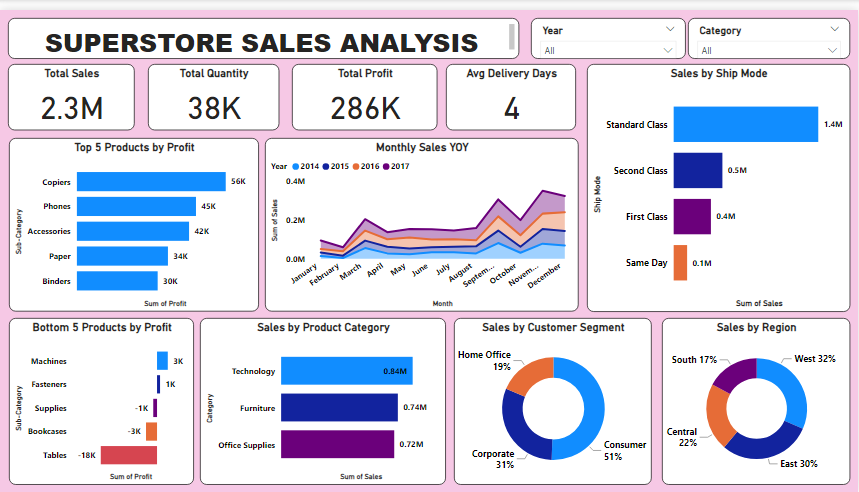

Layout of this report page (visuals, bound fields, positions):
{"tool":"powerbi","page":{"name":"DASHBOARD","canvas":[1280,720],"ordinal":0},"visuals":[{"type":"card","title":"Total Sales","fields":{"Values":["Sales.Total Sales"]},"box":[11.3,80.8,188.5,99.2],"z":0},{"type":"card","title":"Total Quantity","fields":{"Values":["Sales.Total Quantity"]},"box":[221.1,80.8,195.6,99.2],"z":1000},{"type":"card","title":"Total Profit","fields":{"Values":["Sales.Total Profit"]},"box":[435.1,80.8,216.9,99.2],"z":2000},{"type":"card","title":"Avg Delivery Days","fields":{"Values":["Sales.Avg Delivery Days"]},"box":[666.1,80.8,194.2,99.2],"z":3000},{"type":"textbox","box":[11.3,11.3,762.5,60.9],"z":4000},{"type":"barChart","title":"Sales by Product Category","fields":{"Y":["Sum(Sales.Sales)"],"Category":["Products.Category"]},"box":[299.1,459.2,367.1,249.4],"z":5000},{"type":"donutChart","title":" Sales by Region","fields":{"Category":["Locations.Region"],"Y":["Sum(Sales.Sales)"]},"box":[987.9,459.2,280.6,249.4],"z":6000},{"type":"donutChart","title":"Sales by Customer Segment","fields":{"Y":["Sum(Sales.Sales)"],"Category":["Customers.Segment"]},"box":[677.5,459.2,294.8,249.4],"z":7000},{"type":"stackedAreaChart","title":"Monthly Sales YOY","fields":{"Category":["Sales.Order Date.Variation.Date Hierarchy.Month","Sales.Order Date.Variation.Date Hierarchy.Day"],"Y":["Sum(Sales.Sales)"],"Series":["Sales.Order Date.Variation.Date Hierarchy.Year"]},"box":[395.4,191.3,467.7,259.4],"z":8000},{"type":"barChart","title":"Top 5 Products by Profit","fields":{"Y":["Sum(Sales.Profit)"],"Category":["Products.Sub-Category"]},"box":[12.8,191.3,372.8,259.4],"z":9000},{"type":"clusteredBarChart","title":"Bottom 5 Products by Profit","fields":{"Y":["Sum(Sales.Profit)"],"Category":["Products.Sub-Category"]},"box":[12.8,459.2,276.4,249.4],"z":11000},{"type":"slicer","fields":{"Values":["Sales.Order Date.Variation.Date Hierarchy.Year"]},"box":[792.3,11.3,231,60.9],"z":12000},{"type":"slicer","fields":{"Values":["Products.Category"]},"box":[1026.1,11.3,242.4,60.9],"z":13000},{"type":"clusteredBarChart","title":"Sales by Ship Mode","fields":{"Category":["Sales.Ship Mode"],"Y":["Sum(Sales.Sales)"]},"box":[875.9,80.8,392.6,369.9],"z":14000}]}

Visuals, with their boxes in screenshot pixels (x1, y1, x2, y2), scaled from the page's 1280x720 canvas onto the 859x492 screenshot:
"Total Sales" card: crop(8, 55, 134, 123)
"Total Quantity" card: crop(148, 55, 280, 123)
"Total Profit" card: crop(292, 55, 438, 123)
"Avg Delivery Days" card: crop(447, 55, 577, 123)
textbox: crop(8, 8, 519, 49)
"Sales by Product Category" barChart: crop(201, 314, 447, 484)
" Sales by Region" donutChart: crop(663, 314, 851, 484)
"Sales by Customer Segment" donutChart: crop(455, 314, 653, 484)
"Monthly Sales YOY" stackedAreaChart: crop(265, 131, 579, 308)
"Top 5 Products by Profit" barChart: crop(9, 131, 259, 308)
"Bottom 5 Products by Profit" clusteredBarChart: crop(9, 314, 194, 484)
slicer - Sales.Order Date.Variation.Date Hierarchy.Year: crop(532, 8, 687, 49)
slicer - Products.Category: crop(689, 8, 851, 49)
"Sales by Ship Mode" clusteredBarChart: crop(588, 55, 851, 308)
